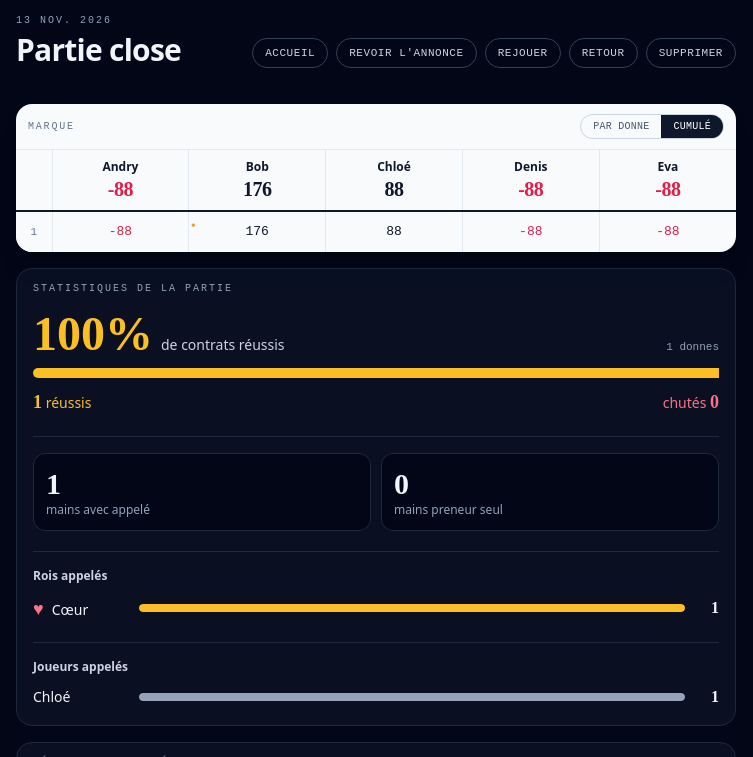
Test: Classement par soirée › n'ajoute pas de cérémonie de soirée quand la partie est seule
Click the button "Revoir l'annonce". click: (406, 53)
box: [336,38,477,68]
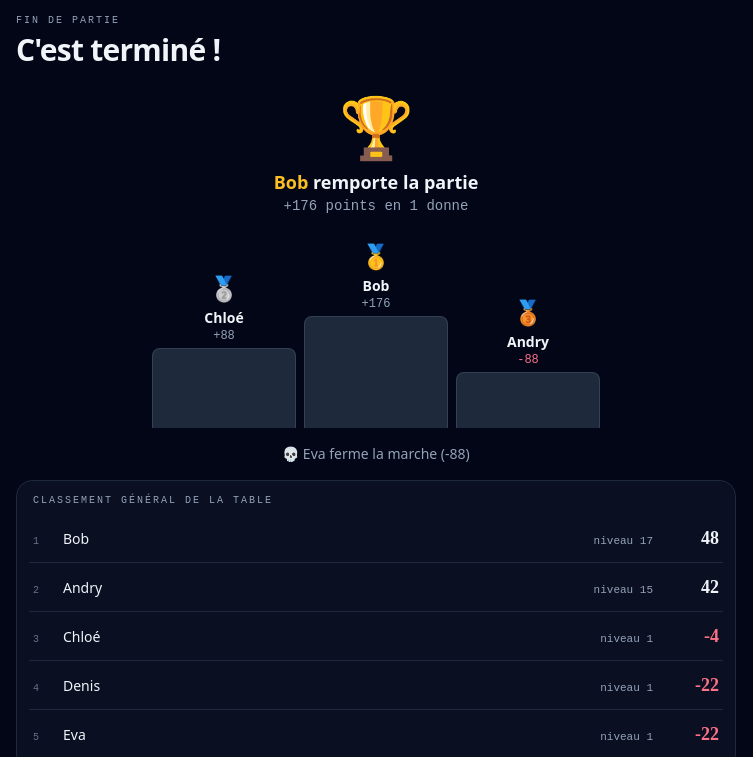
expect the element with test id "annonce-vainqueur" is shown: met, box [274,85,478,214]
